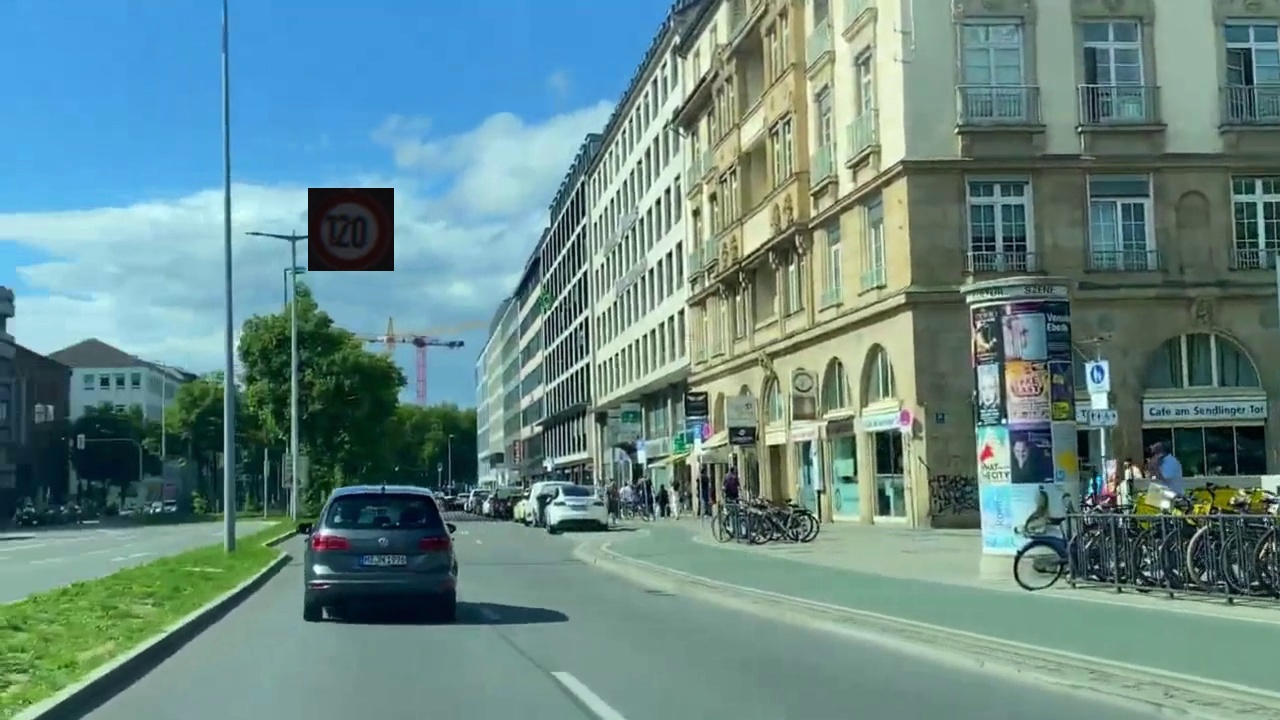Speed 120: (308, 188, 394, 271)
